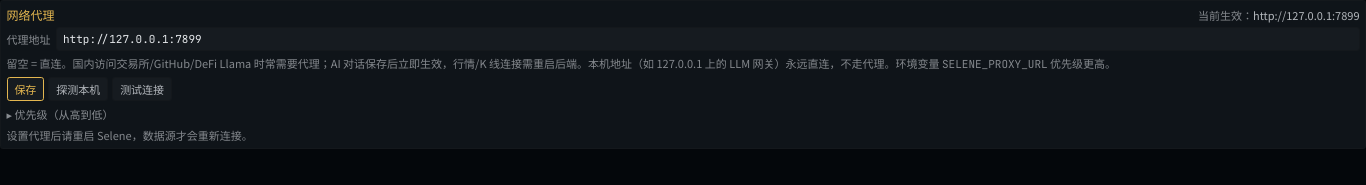
NetworkSettingsPanel › says so when nothing is listening rather than showing an empty result
Click the button "探测本机" at (78, 89), box [48,77,108,101]
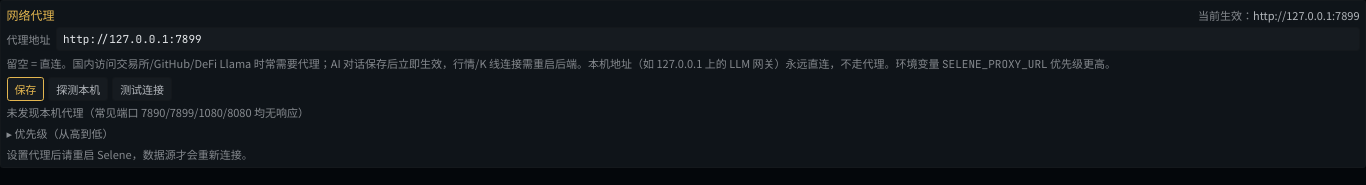
Expected: the text "未发现本机代理（常见端口 7890/7899/1080/8080 均无响应）" is shown, [6,104,309,120]
